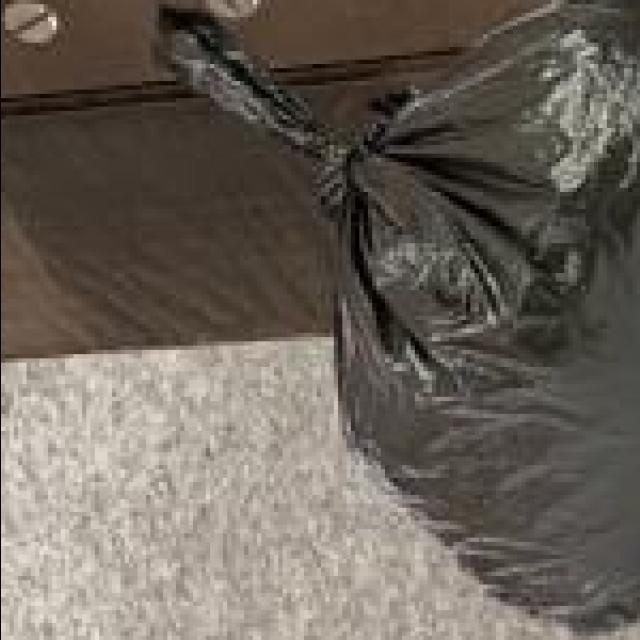Trashbag: (267, 43, 640, 545)
